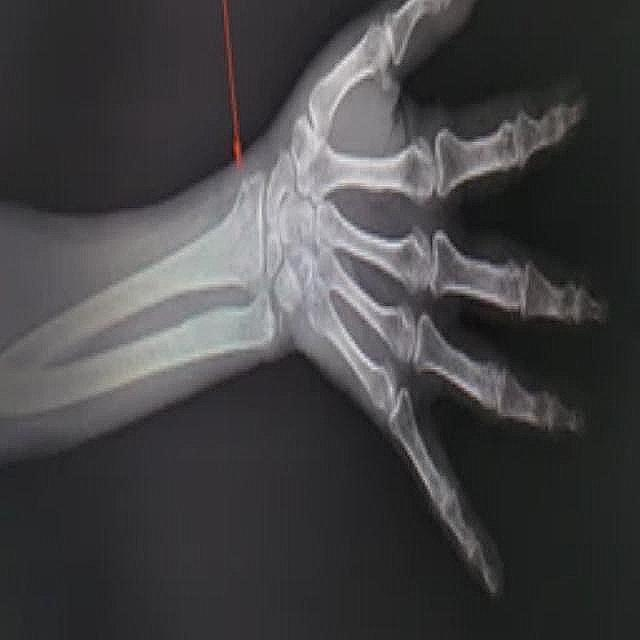bone: (222, 164, 266, 234)
